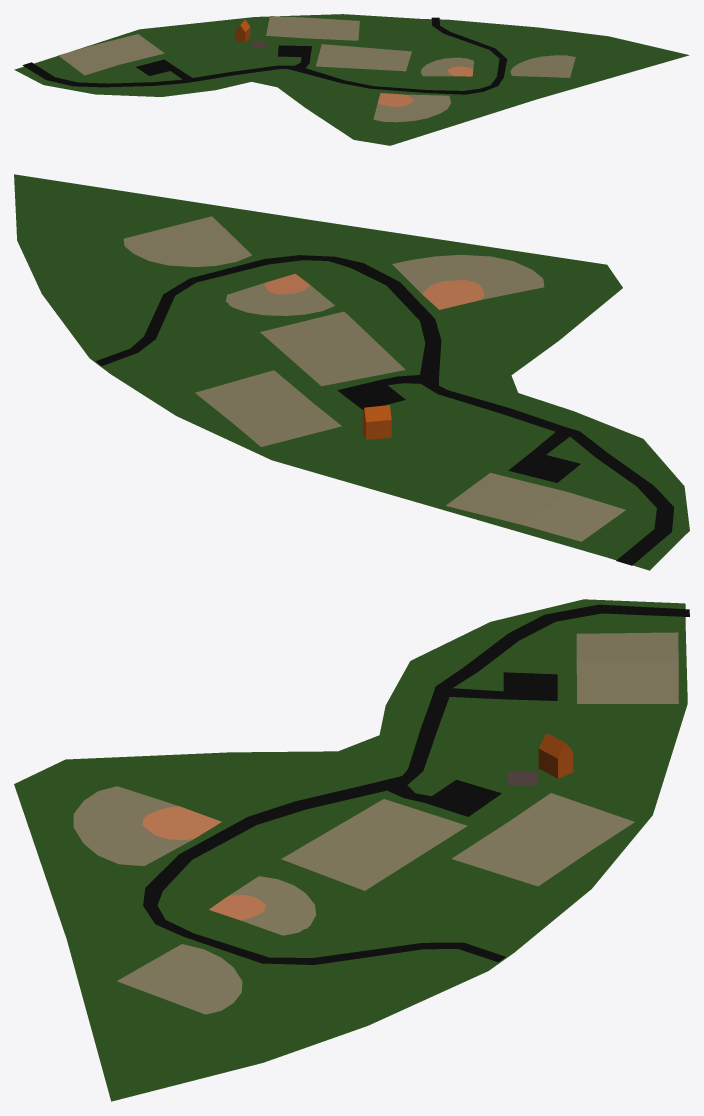
The model's file is ubneckpark.glb.
3 views of the same model, one above another, from view 1: azimuth 30°, elevation 25°; view 2: azimuth 150°, elevation 25°; view 3: azimuth 270°, elevation 25° (orthographic). The views are drawn at different scales.
Parts seen in each view (by area): view 1: BroadneckPark.001; view 2: BroadneckPark.001; view 3: BroadneckPark.001.
Boxes of the visible parts, box(x1,y1,x2,y2) form: BroadneckPark.001: box(14, 14, 689, 145); BroadneckPark.001: box(14, 174, 689, 570); BroadneckPark.001: box(14, 599, 689, 1101).
Bounding box in the file's own units: 1.11 × 0.0614 × 0.6441.
